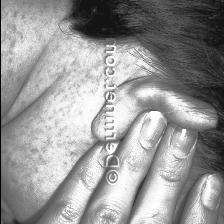Toxin: (0, 137, 46, 198), (0, 0, 27, 73), (70, 46, 93, 124), (39, 116, 80, 154), (116, 46, 148, 76), (52, 67, 66, 114)
